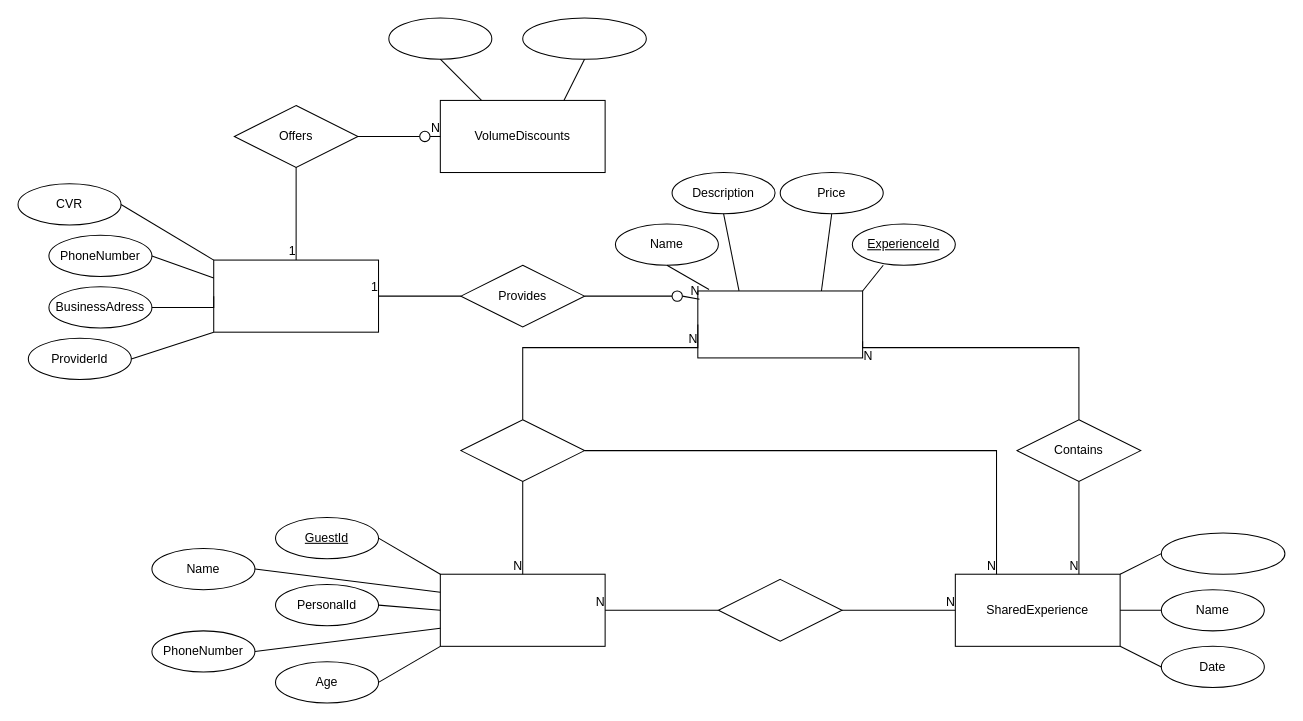
The diagram is 1303 pixels wide and 721 high, and some of its shapes have lost their labels. The shapes that lost their labels are listed below. From the top down, each one's centre as x and y in pixels, then its label:
the point at 440,38: MinGroupSize
the point at 584,38: DiscountPercentage
the point at 296,295: Provider
the point at 780,324: Experience
the point at 522,450: Registered to
the point at 1222,553: SharedExperienceId
the point at 522,609: Guest
the point at 779,609: Has a
